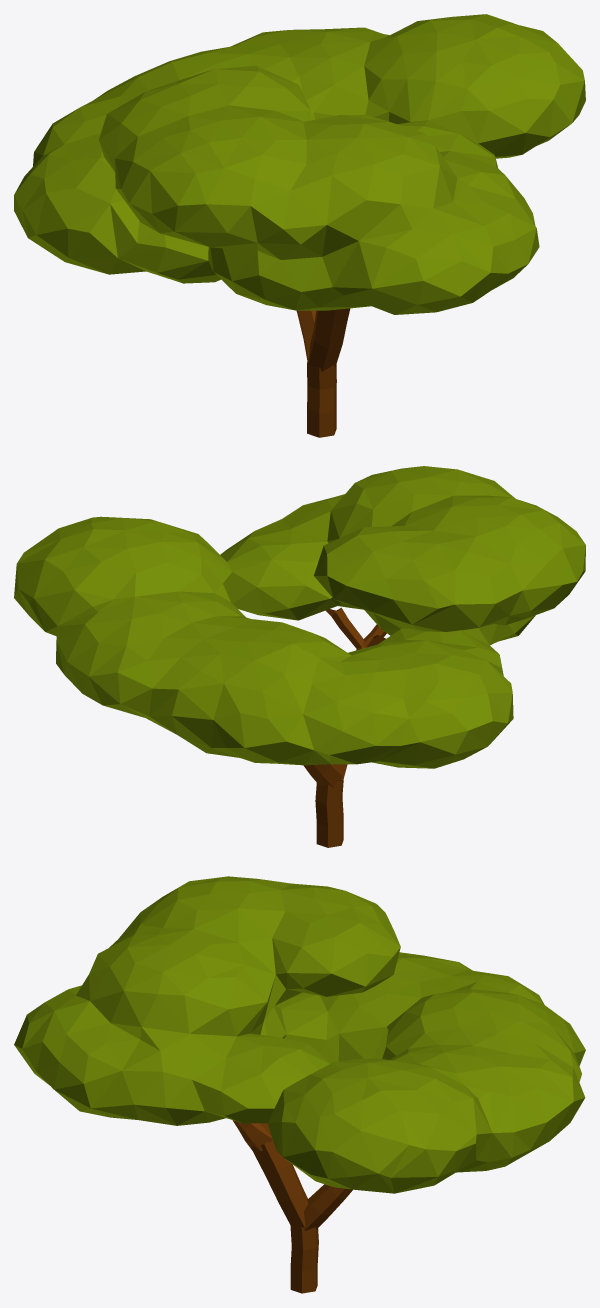
File: SM__Savanna__Tree__Growth__3.fbx
3 renders of one model, top to bottom at view 1: azimuth 30°, elevation 25°; view 2: azimuth 150°, elevation 25°; view 3: azimuth 270°, elevation 25°, orthographic. The views are drawn at different scales.
Parts seen in each view (by area): view 1: normal9; view 2: normal9; view 3: normal9.
Part boxes in pixels (bbox=[...]): normal9: bbox=[14, 14, 585, 437]; normal9: bbox=[14, 466, 585, 847]; normal9: bbox=[14, 876, 585, 1293].
Bounding box in the file's own units: 10.49 × 6.86 × 10.6.
